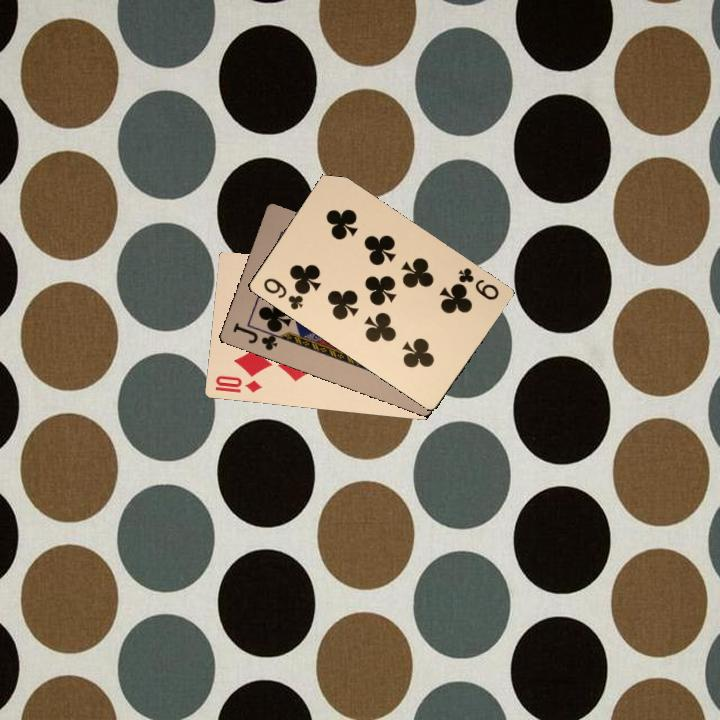10d: (211, 371, 264, 395)
9c: (454, 263, 502, 303), (259, 274, 306, 312)
Jc: (229, 319, 284, 353)
